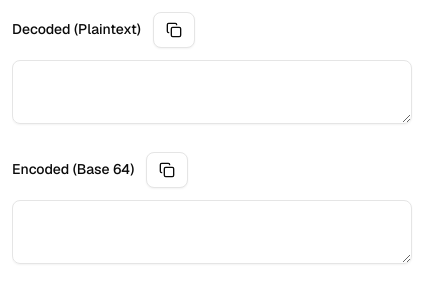
Test case: Base64 Tool › decodes base64 to plaintext when typing in the encoded field
This screenshot has width=432, height=284.
Type "SGVsbG8gV29ybGQ=" into the text box labelled "Encoded (Base 64)" at (212, 232), box [12,200,412,264]
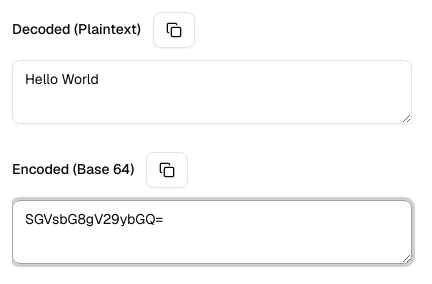
Now the text box labelled "Decoded (Plaintext)" holds "Hello World", box [12,60,412,124]
